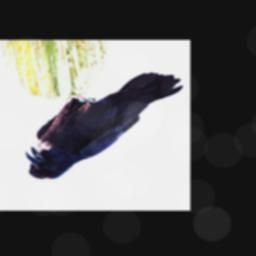Crow: (25, 72, 183, 179)
